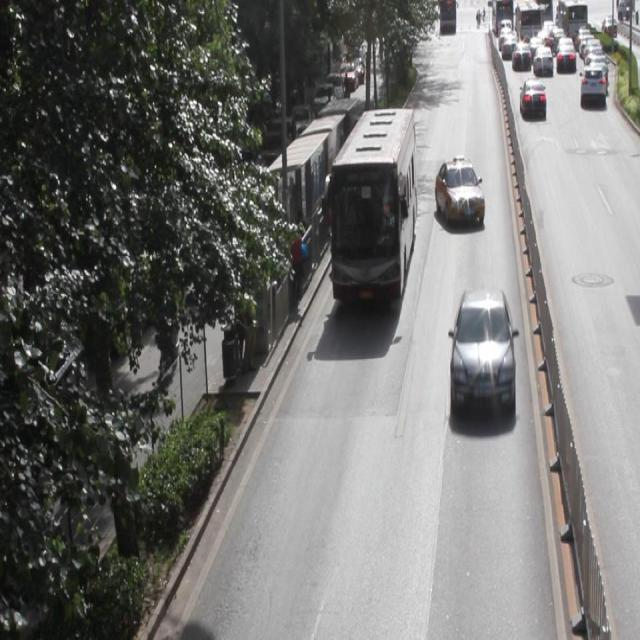car: (450, 284, 513, 412), (434, 157, 483, 227)
van: (330, 107, 414, 300)
